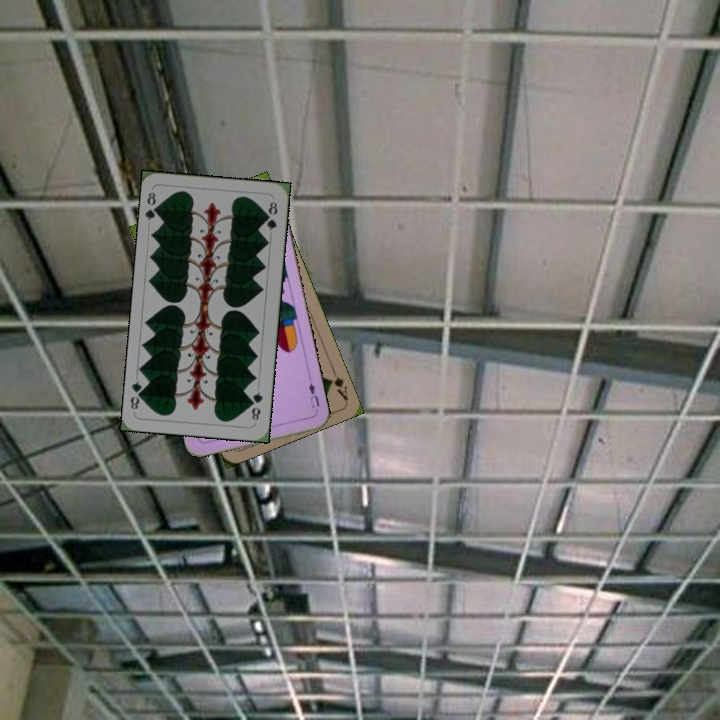EU: (304, 376, 322, 411)
G8: (142, 188, 163, 223), (247, 388, 265, 423)
GA: (324, 364, 351, 403)
